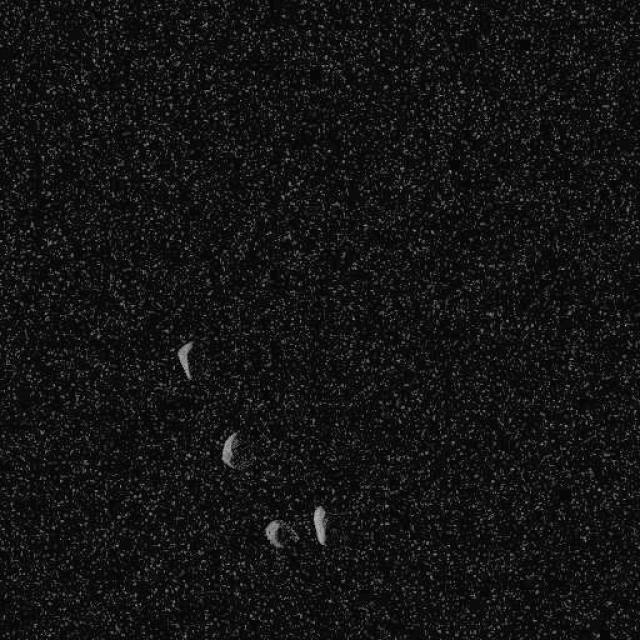D2: (262, 518, 298, 548), (175, 339, 195, 380), (220, 429, 240, 470), (312, 504, 328, 545)
